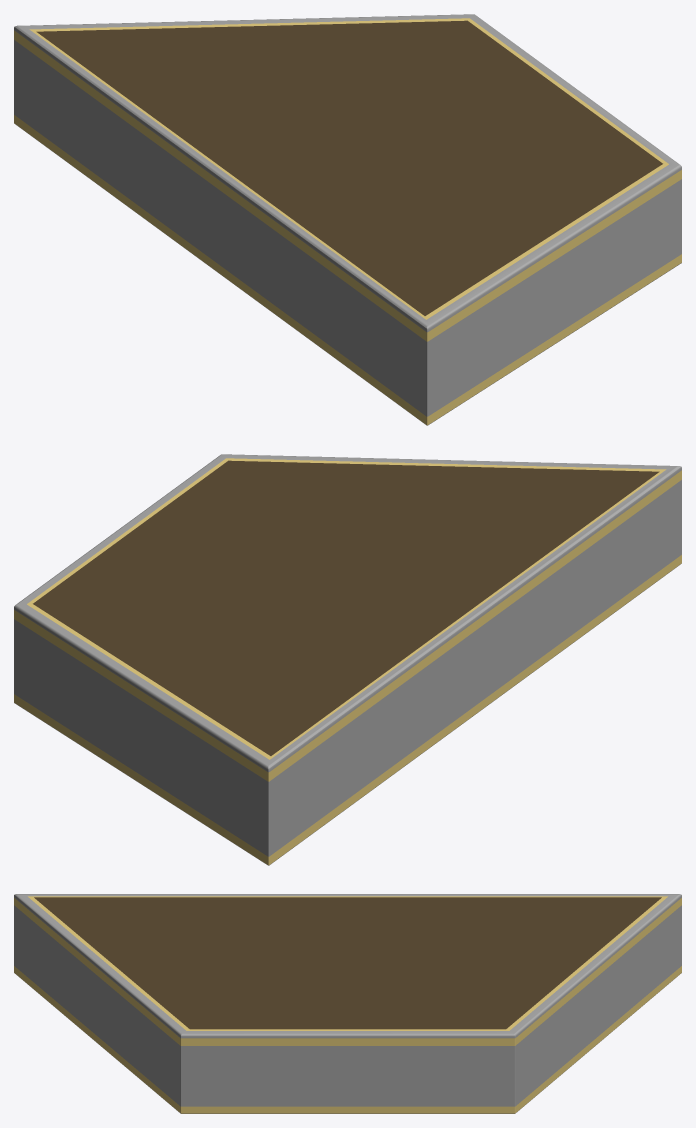
File: A_balcony_.fbx
The picture shows the model from 3 angles, top to bottom: view 1: azimuth 30°, elevation 25°; view 2: azimuth 150°, elevation 25°; view 3: azimuth 270°, elevation 25°; orthographic projection. The views are drawn at different scales.
Parts seen in each view (by area): view 1: A_balcony_wood_01_, A_balcony_concrete_, A_balcony_laiton_; view 2: A_balcony_wood_01_, A_balcony_concrete_, A_balcony_laiton_; view 3: A_balcony_wood_01_, A_balcony_concrete_, A_balcony_laiton_.
Boxes of the visible parts, x1=… form: A_balcony_wood_01_: x1=36, y1=20, x2=662, y2=315; A_balcony_concrete_: x1=14, y1=14, x2=681, y2=425; A_balcony_laiton_: x1=14, y1=18, x2=681, y2=425; A_balcony_wood_01_: x1=33, y1=460, x2=659, y2=755; A_balcony_concrete_: x1=14, y1=454, x2=681, y2=865; A_balcony_laiton_: x1=14, y1=458, x2=681, y2=865; A_balcony_wood_01_: x1=34, y1=897, x2=661, y2=1029; A_balcony_concrete_: x1=14, y1=894, x2=681, y2=1113; A_balcony_laiton_: x1=14, y1=896, x2=681, y2=1113.
Bounding box in the file's own units: 400 × 105 × 799.
